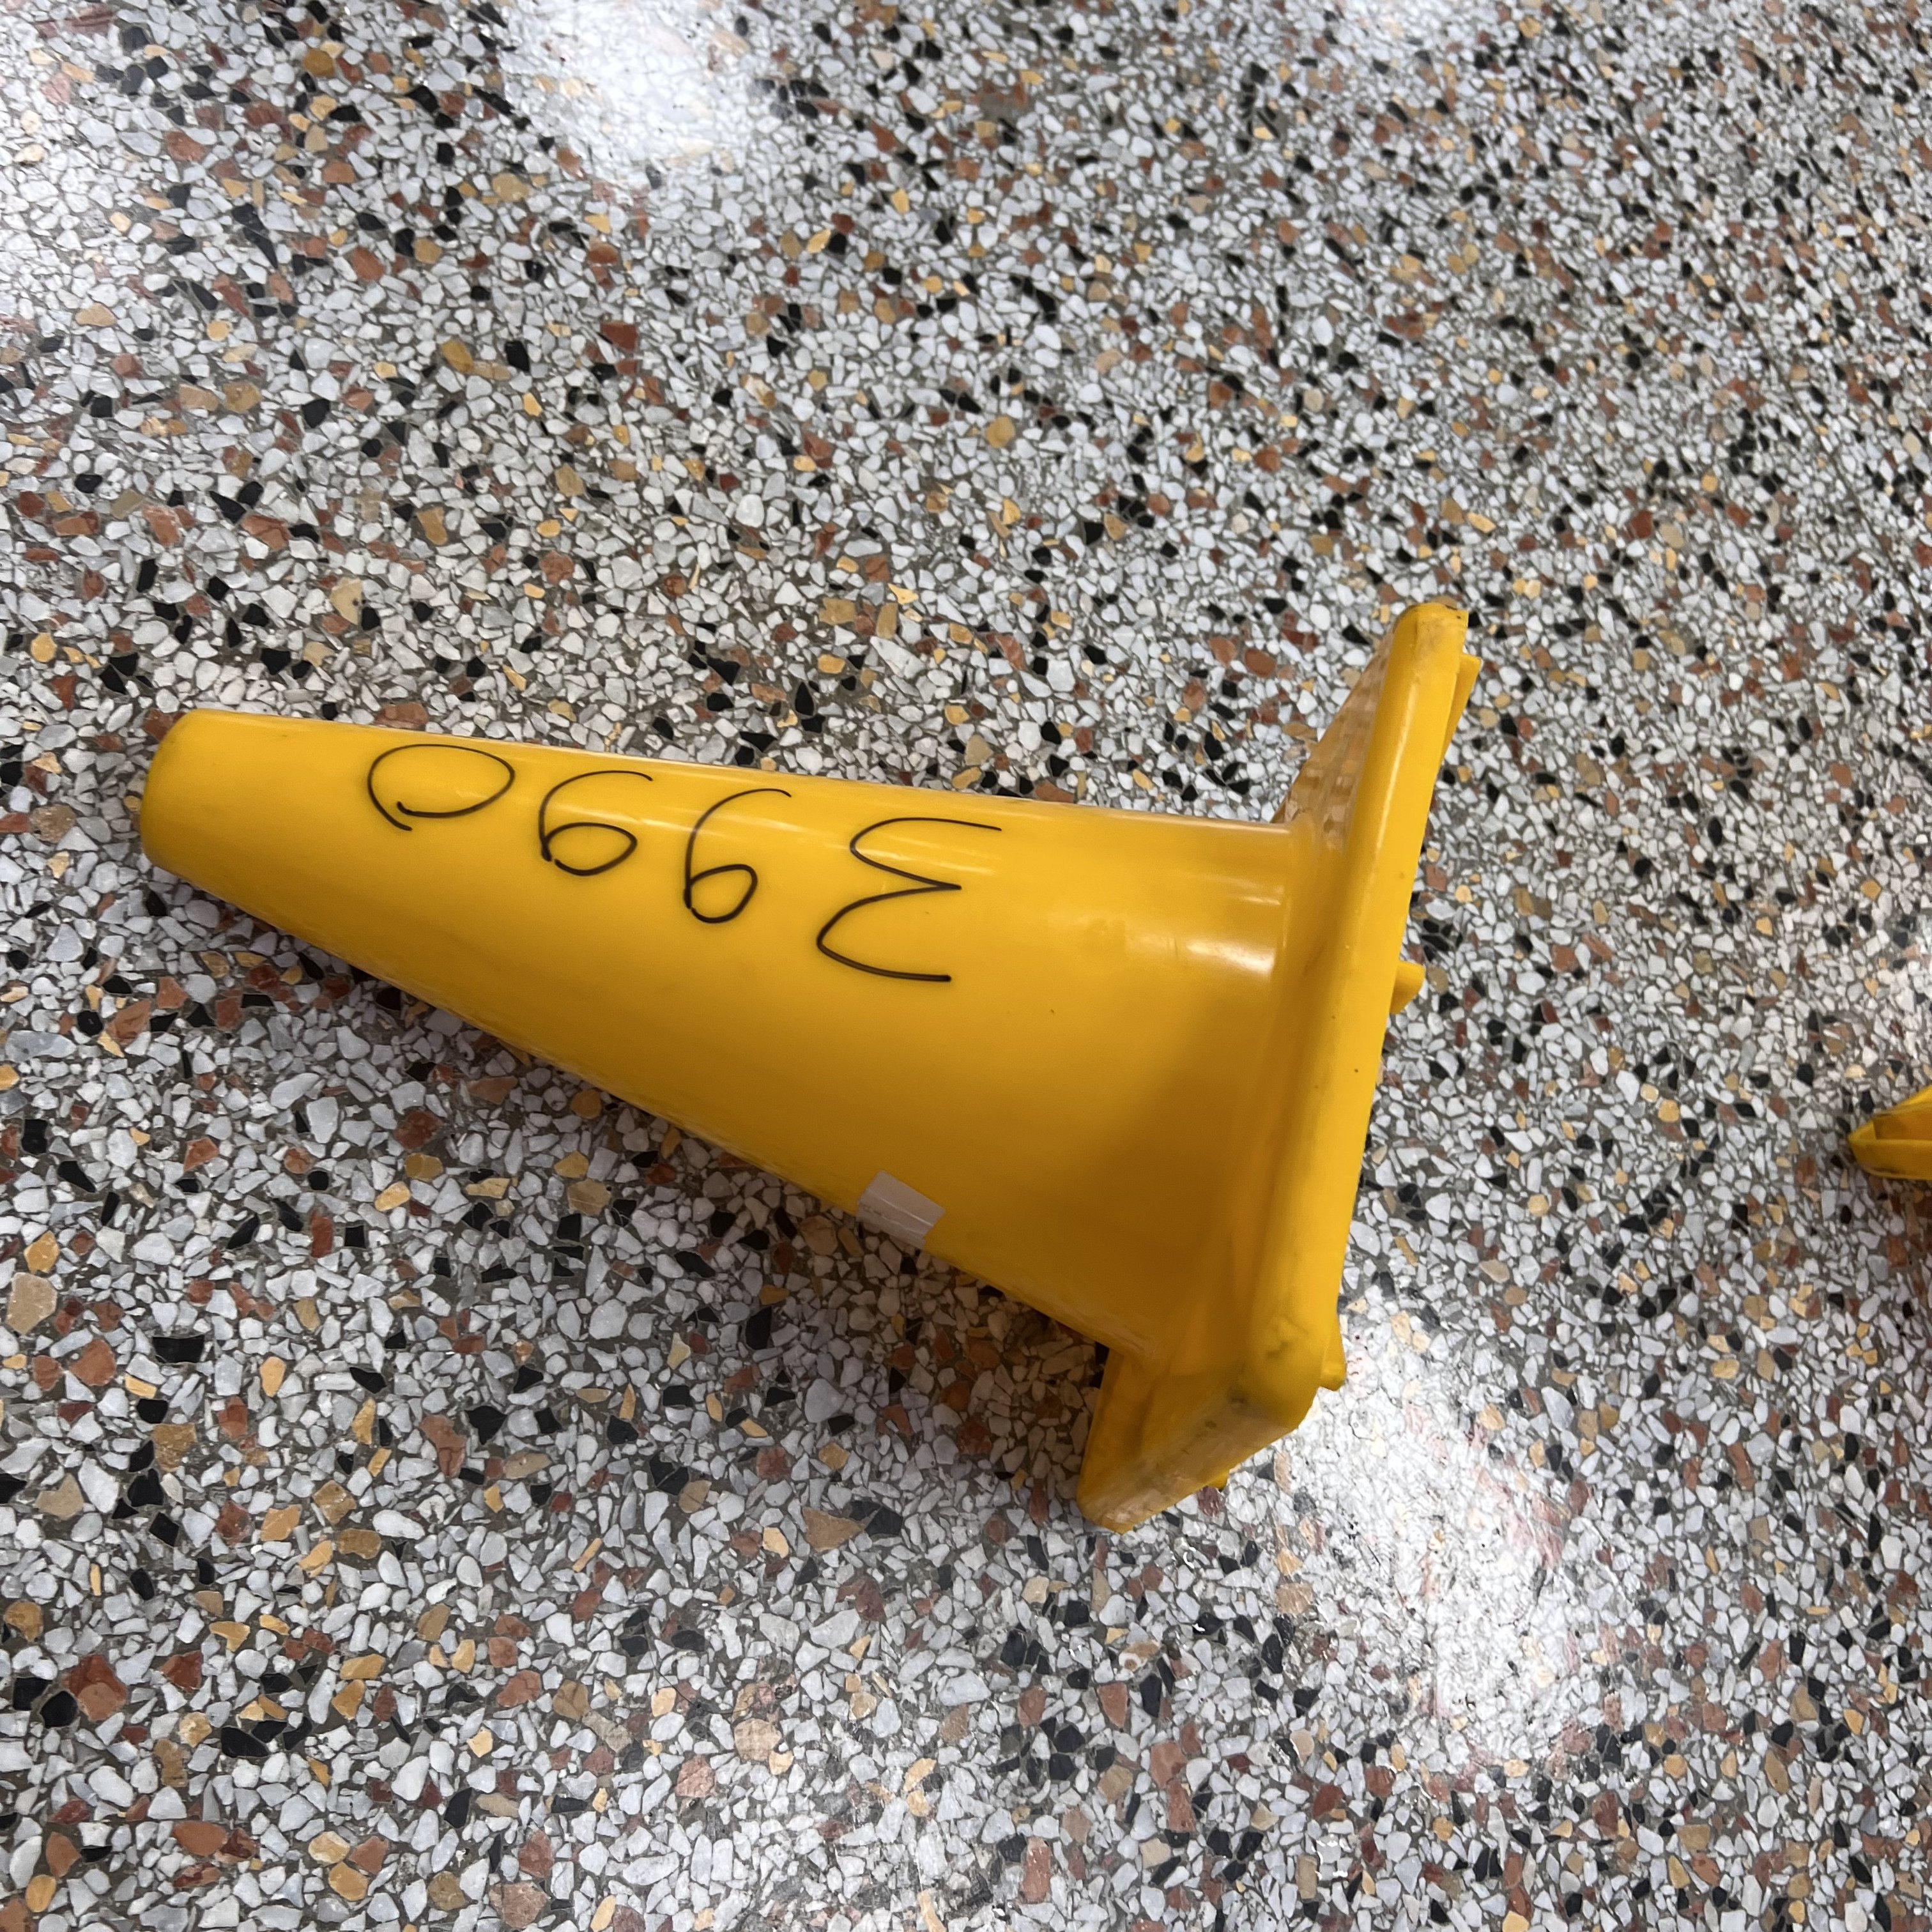cone: (138, 603, 1481, 1534), (1854, 1083, 1932, 1185)
